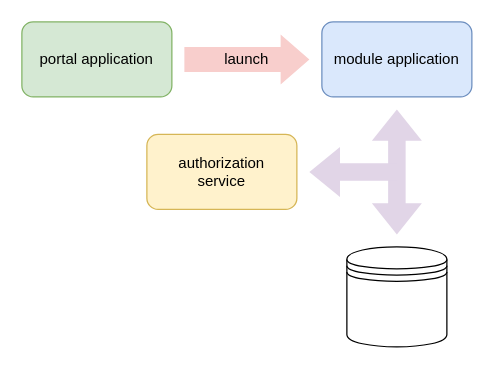
Image size: 494x369. Some labels were removed from this diagram. The centre of each missing label's shape, as x and y in pixels:
FHIR resource service: the point at 396,296
OAuth 2.0: the point at 352,171
